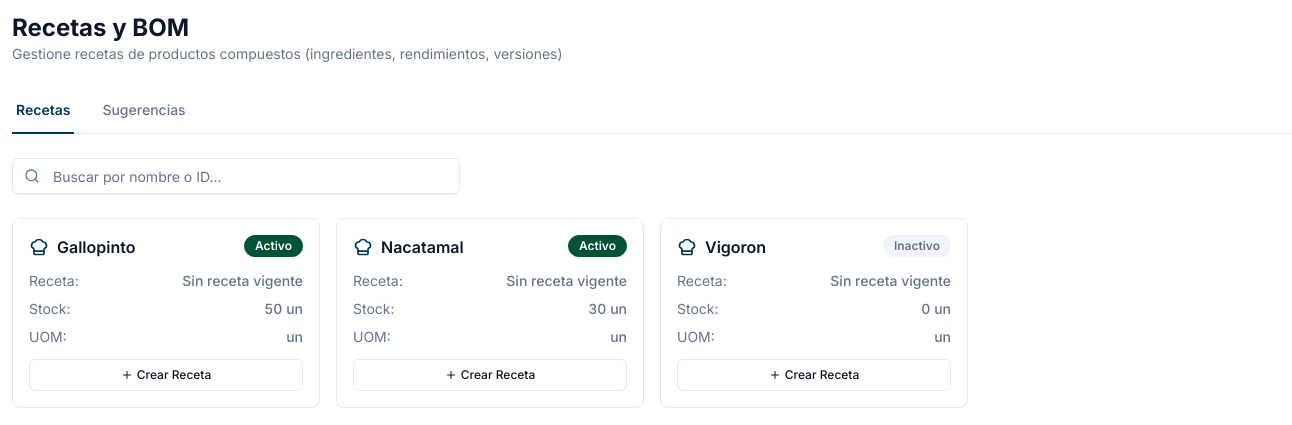
Test: W7 — RecipesPage › clears filter when search is cleared
In the field with placeholder "Buscar por nombre o ID...": (236, 176) [12, 158, 460, 194], type "Gallo"
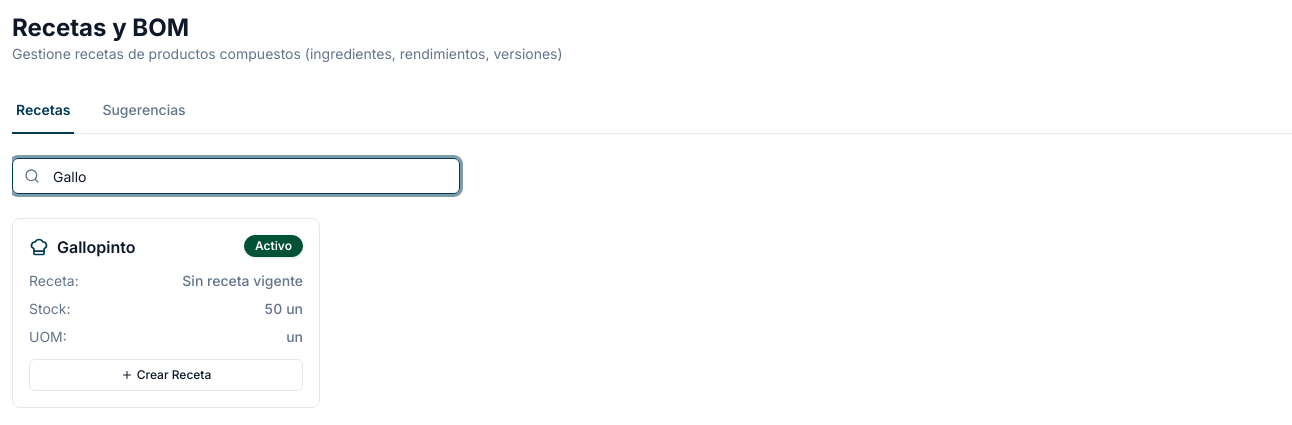
Expected: the heading "Nacatamal" is gone
Clear the field with placeholder "Buscar por nombre o ID...": (236, 176) [12, 158, 460, 194]
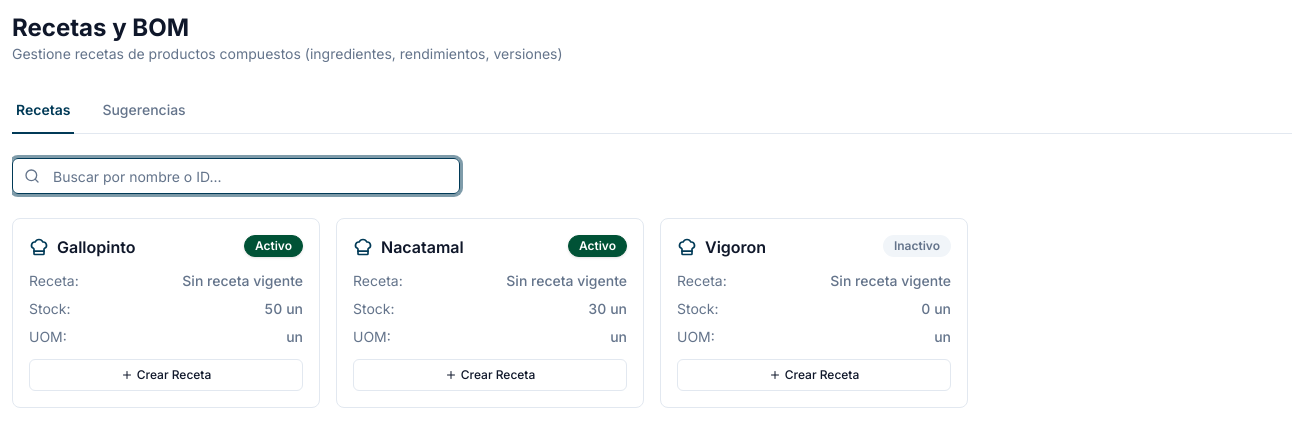
Expected: the heading "Nacatamal" is shown, [381, 235, 464, 259]
